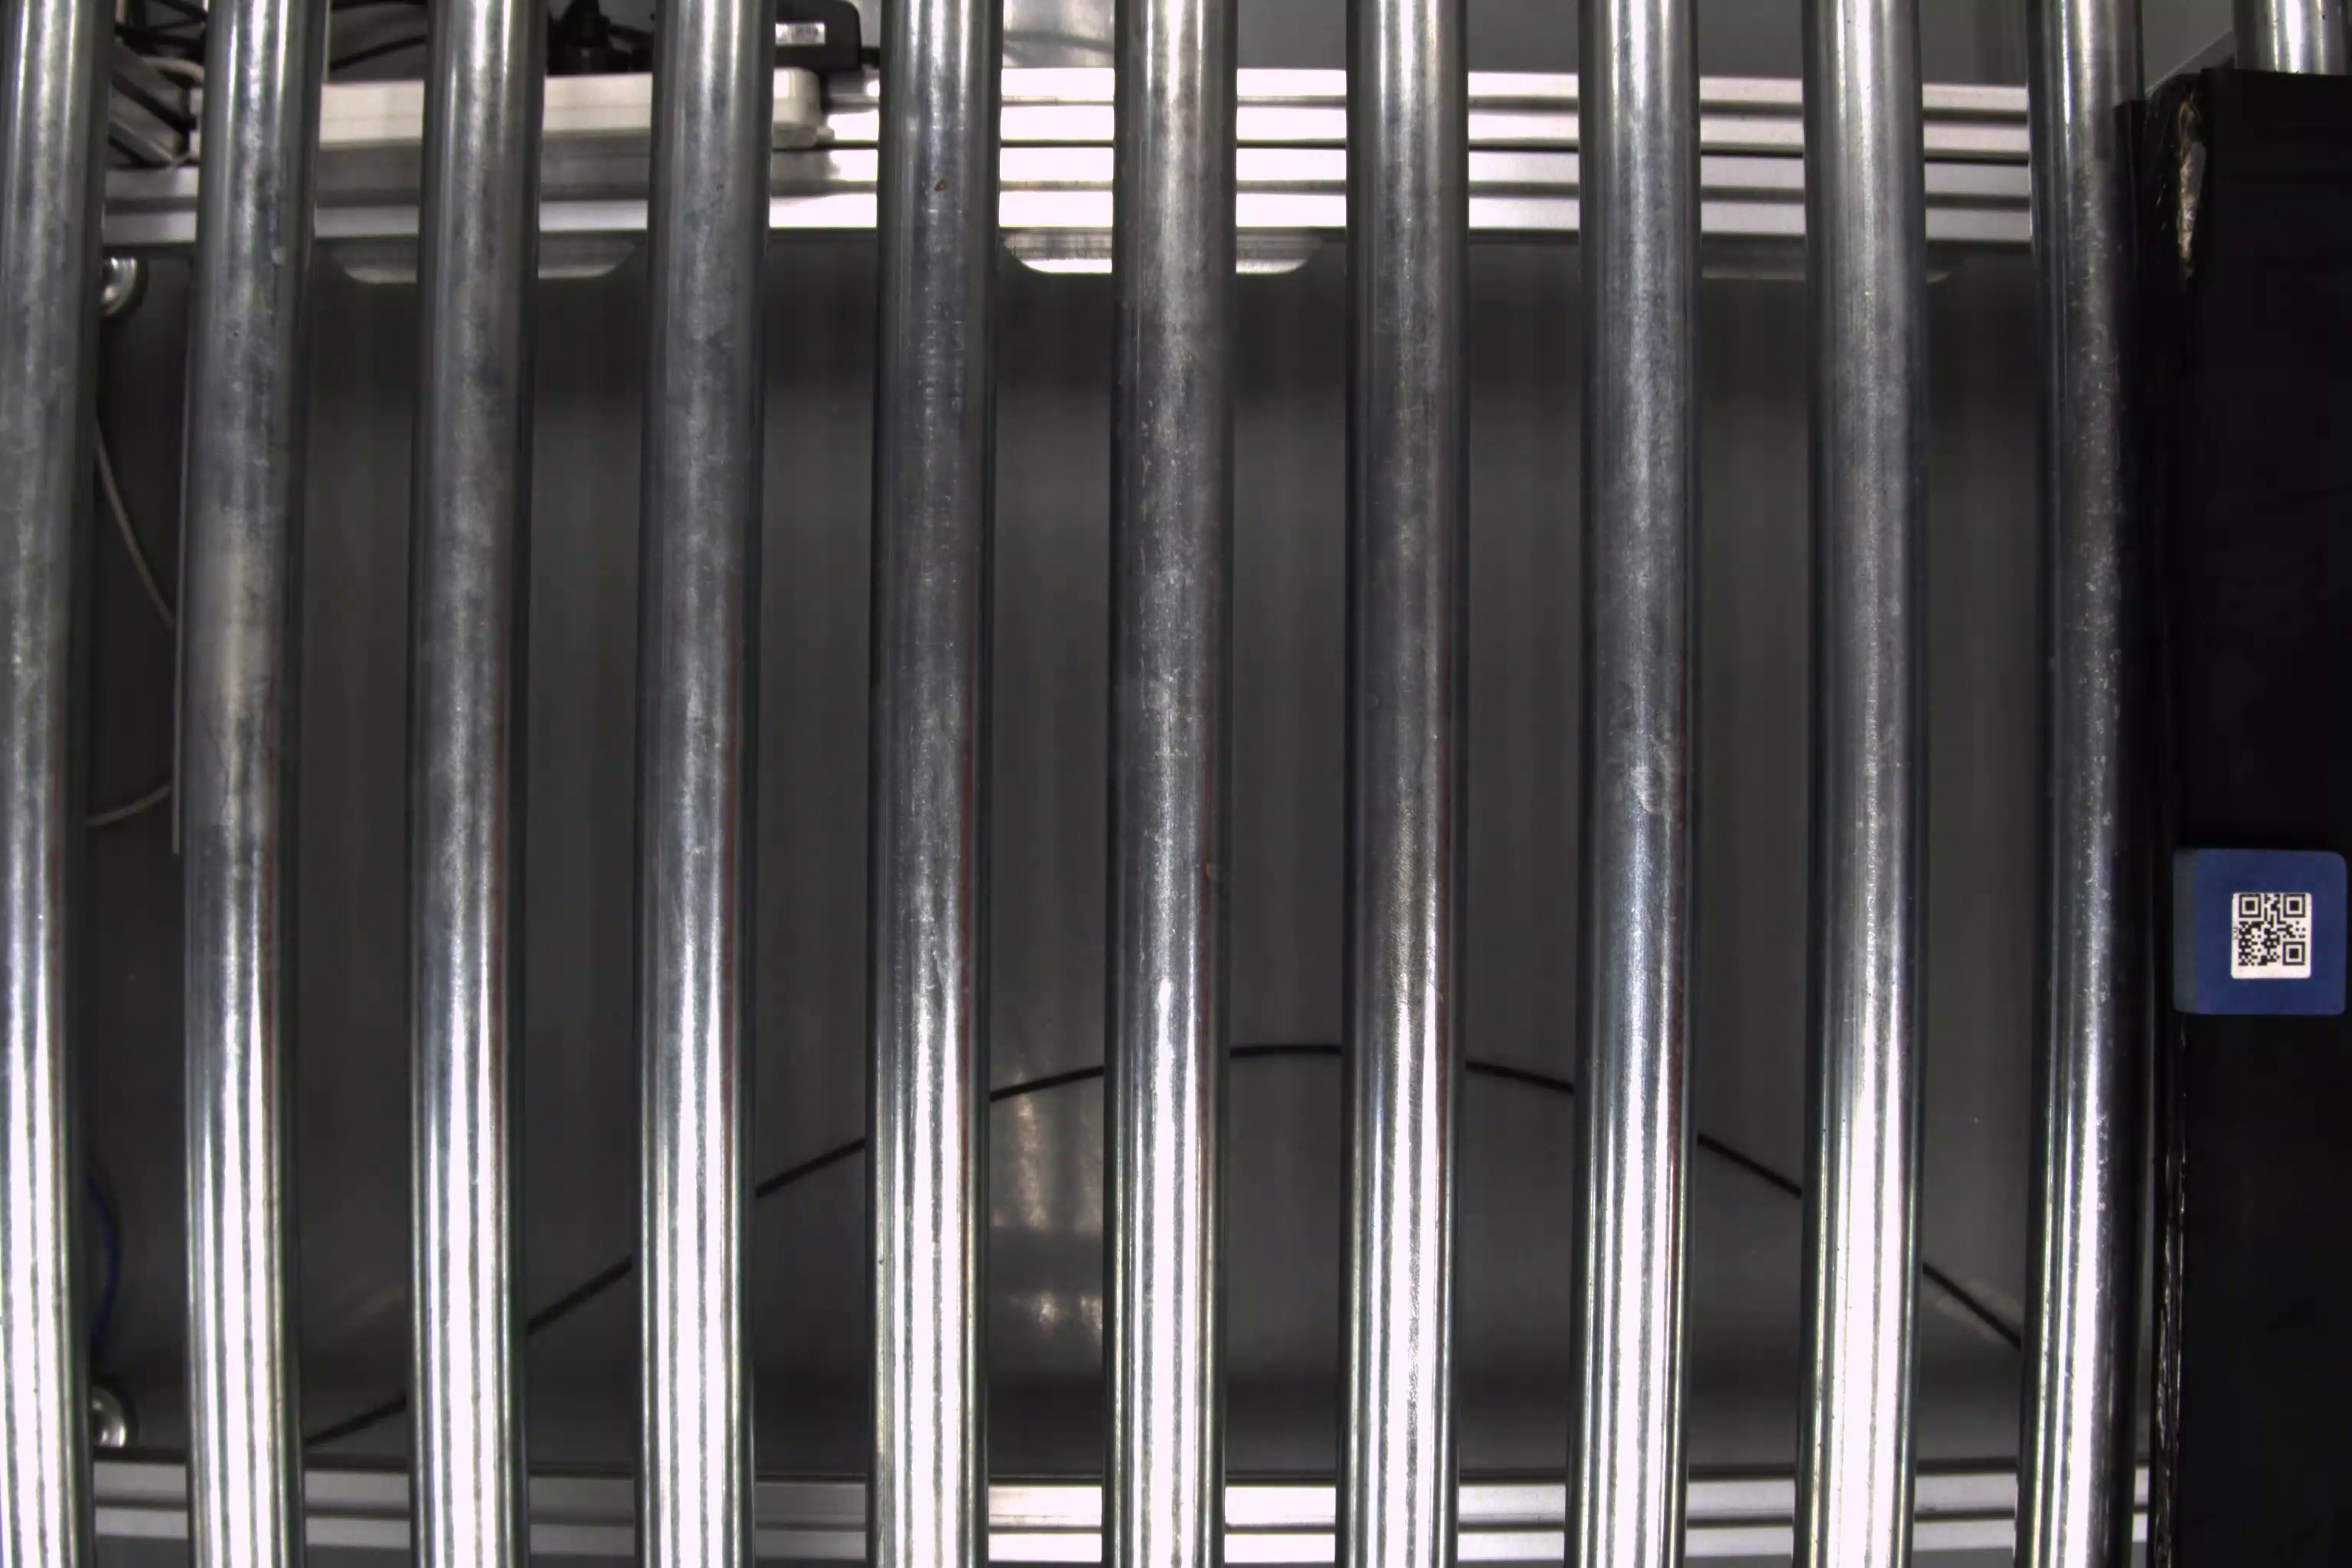wood: (2172, 842, 2352, 1020)
